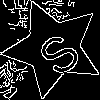S: (28, 23, 85, 80)
